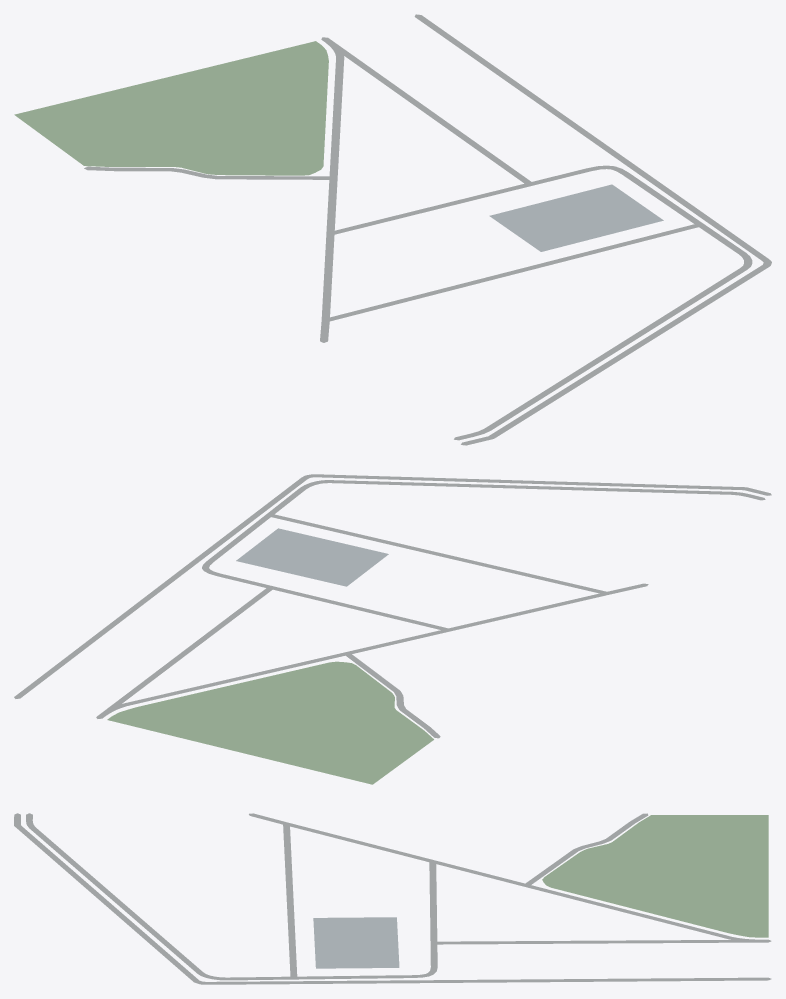
File: -18_-4-known-fine.glb
3 views of the same model, one above another, from view 1: azimuth 30°, elevation 25°; view 2: azimuth 150°, elevation 25°; view 3: azimuth 270°, elevation 25° (orthographic). The views are drawn at different scales.
Size of the model in its own units: 178 by 0.15 by 332.
